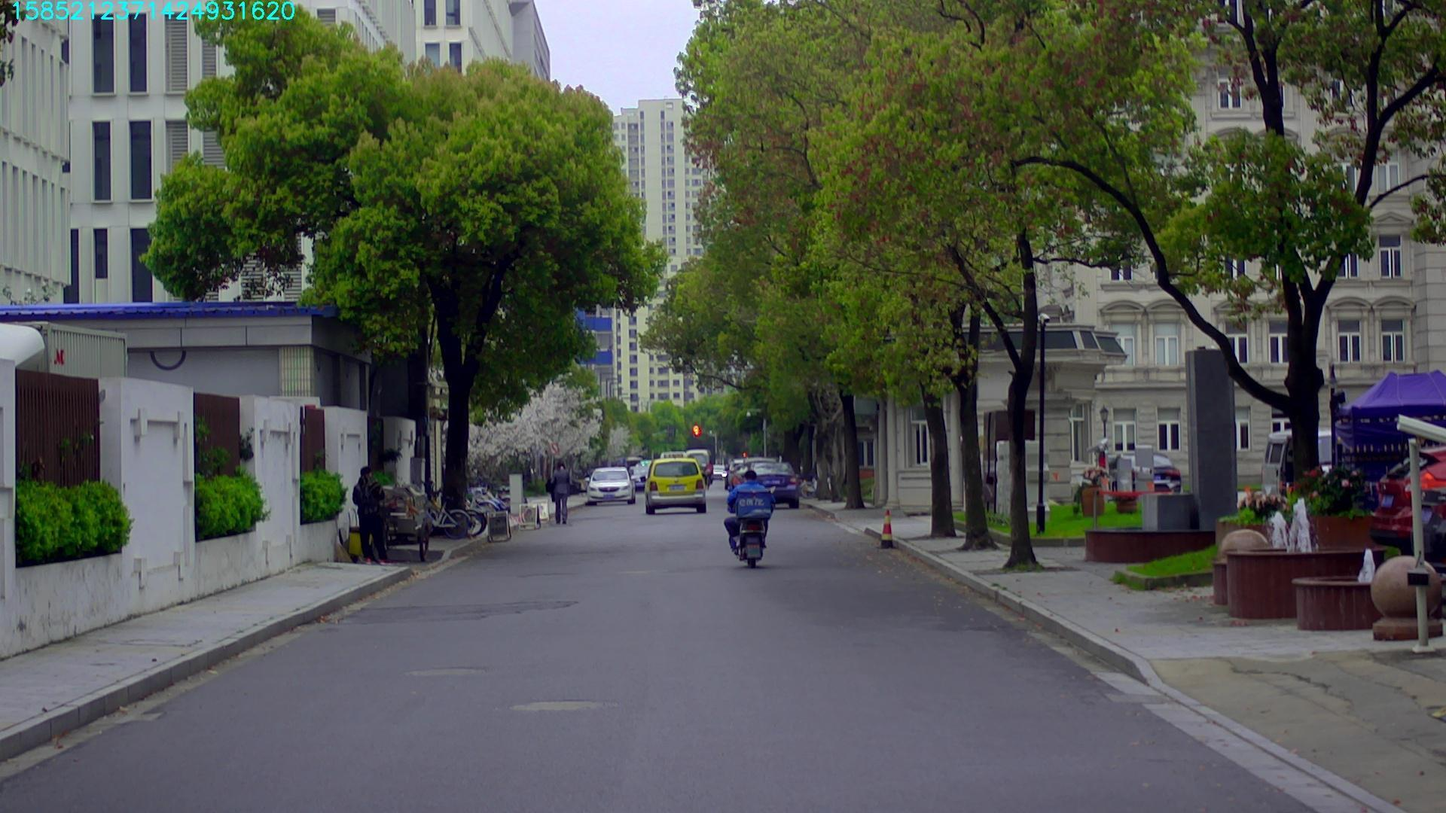red: (692, 425, 700, 435)
